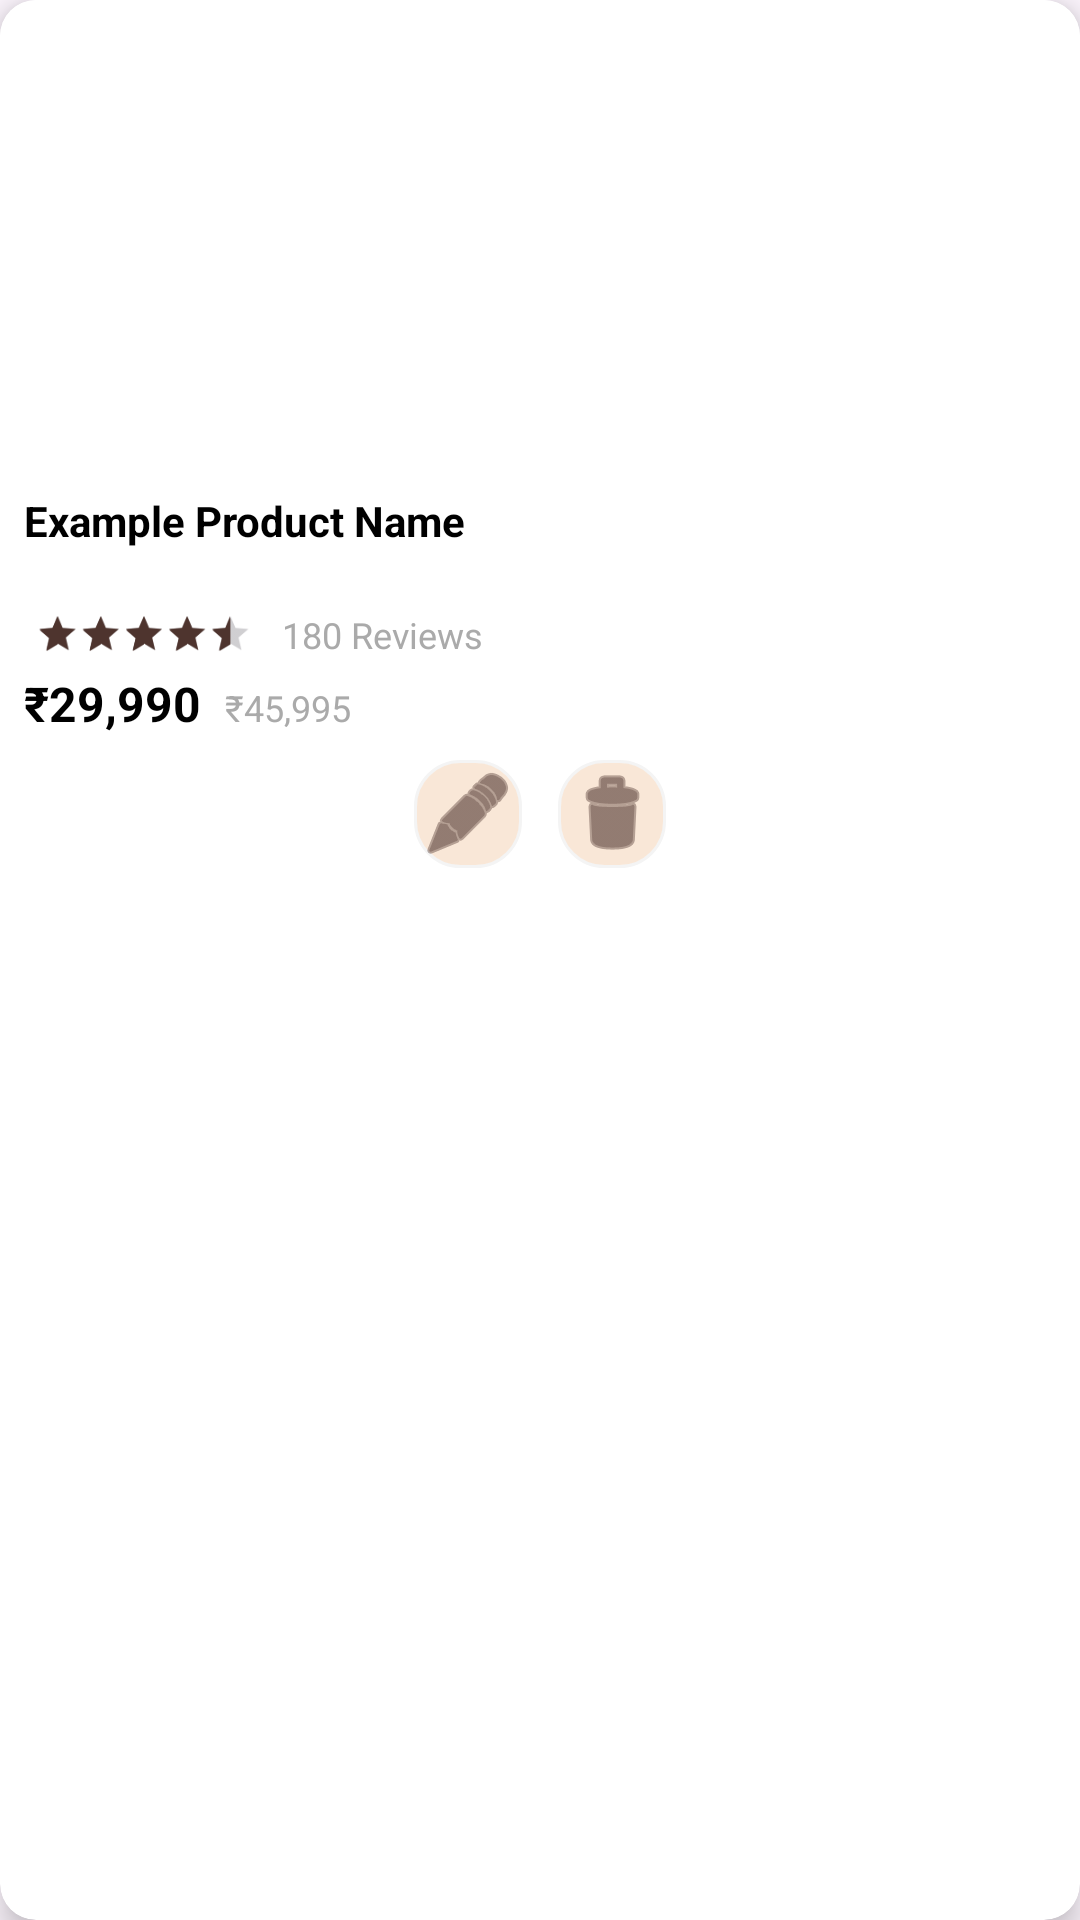

Locate icon controls on the screen. Image size 1080x1920, boxes as (x1, y1, x2, y2).
Delete: (561, 763, 663, 865)
Edit: (417, 763, 519, 865)
